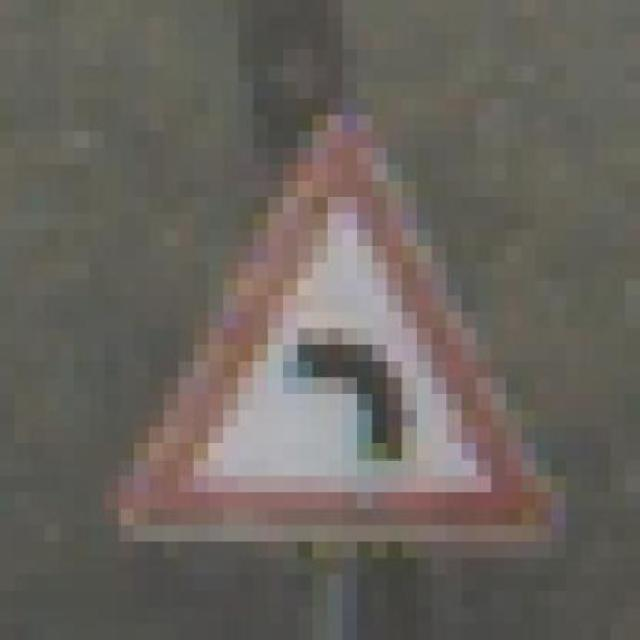Dangerous Left Curve Ahead: (74, 99, 580, 542)
